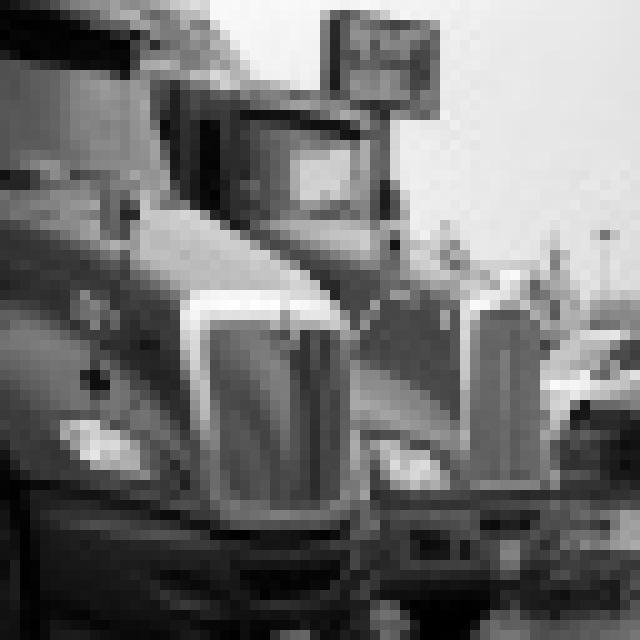trucks: (4, 10, 572, 634)
